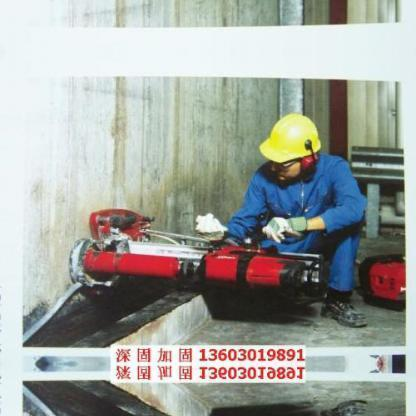helmet: (256, 116, 327, 162)
